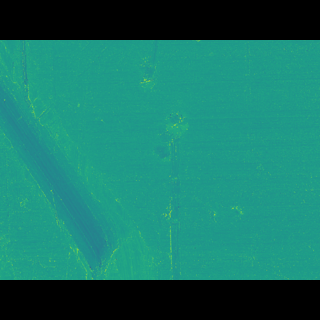Loch: (0, 70, 162, 249), (157, 141, 197, 250), (151, 120, 193, 160), (133, 81, 165, 108)
